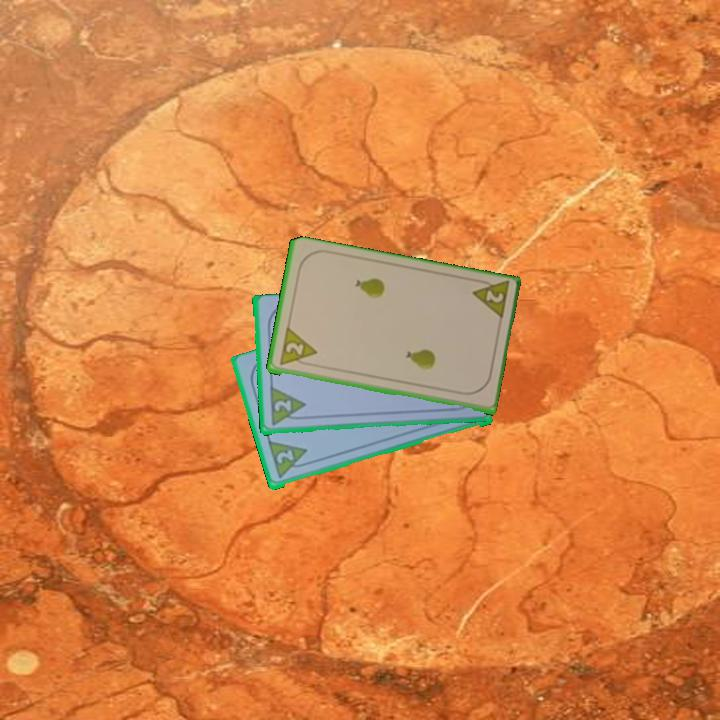2p: (468, 276, 512, 324), (266, 385, 308, 429), (272, 446, 296, 467), (282, 339, 306, 359)
